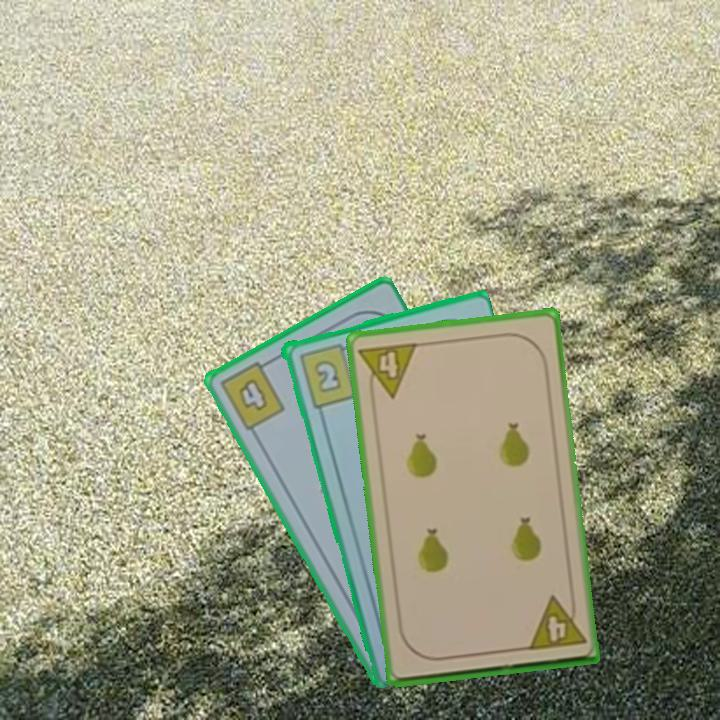2b: (295, 339, 359, 411)
4b: (215, 355, 288, 434)
4p: (355, 339, 420, 403), (523, 591, 588, 654)
